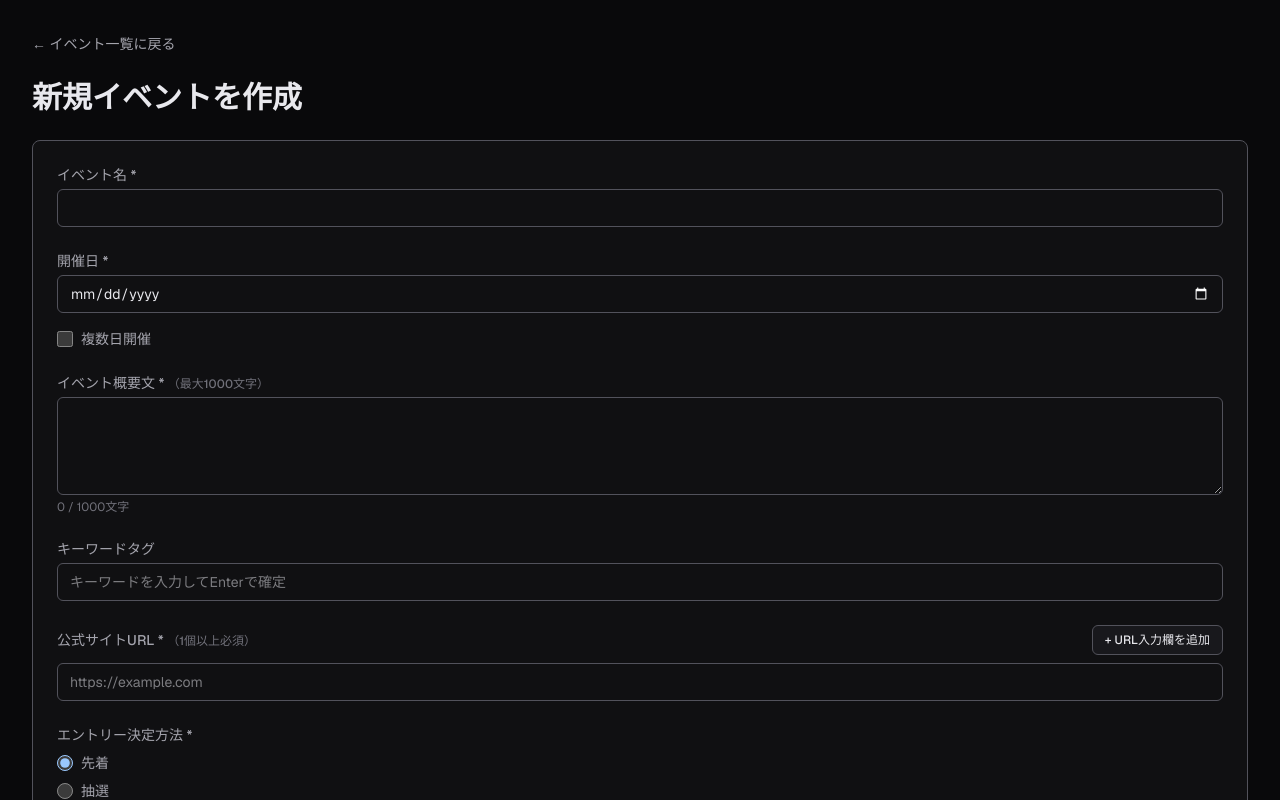
AdminNewEventPage › 保存中はボタンが無効になる
Step 1. Type "テストイベント" into the 1st field → (640, 208), box [57,189,1223,227]
(page scrolled)
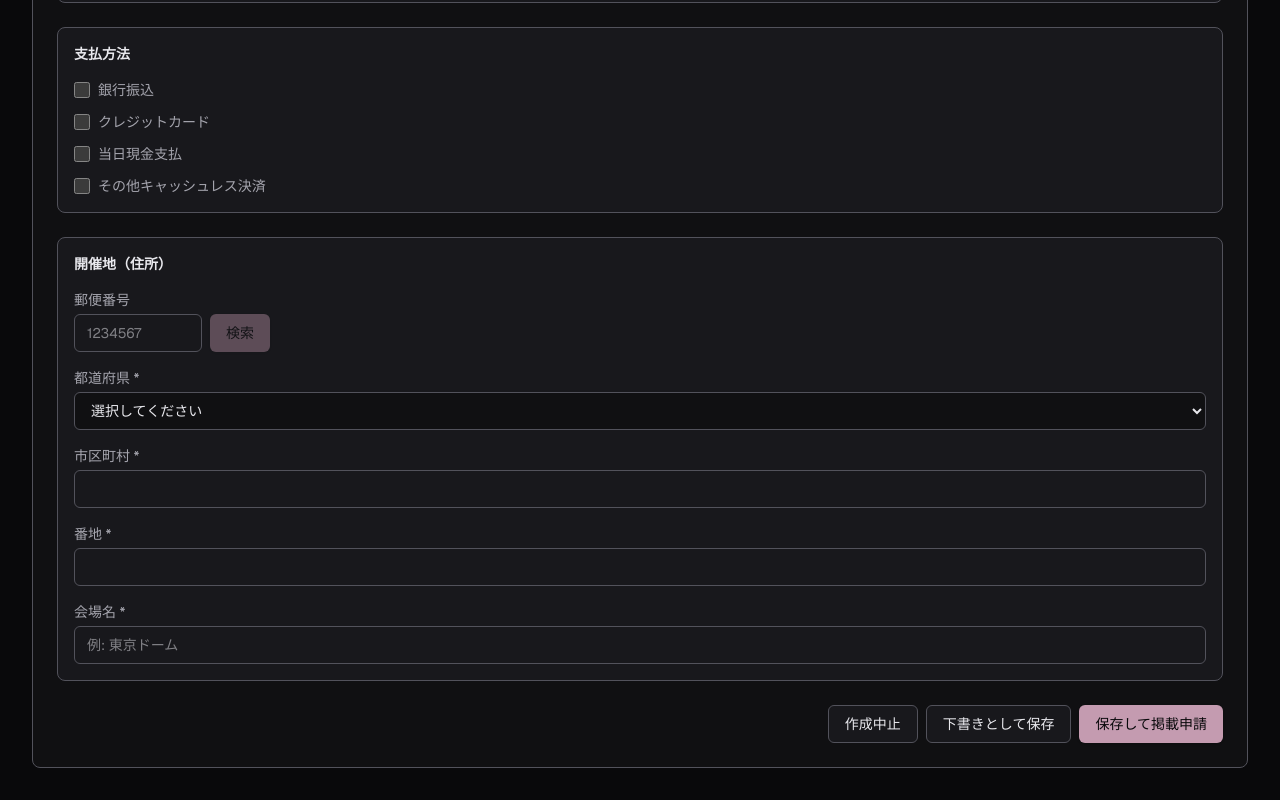
Step 2. Click the button "下書きとして保存" → (999, 724), box [926,704,1071,742]
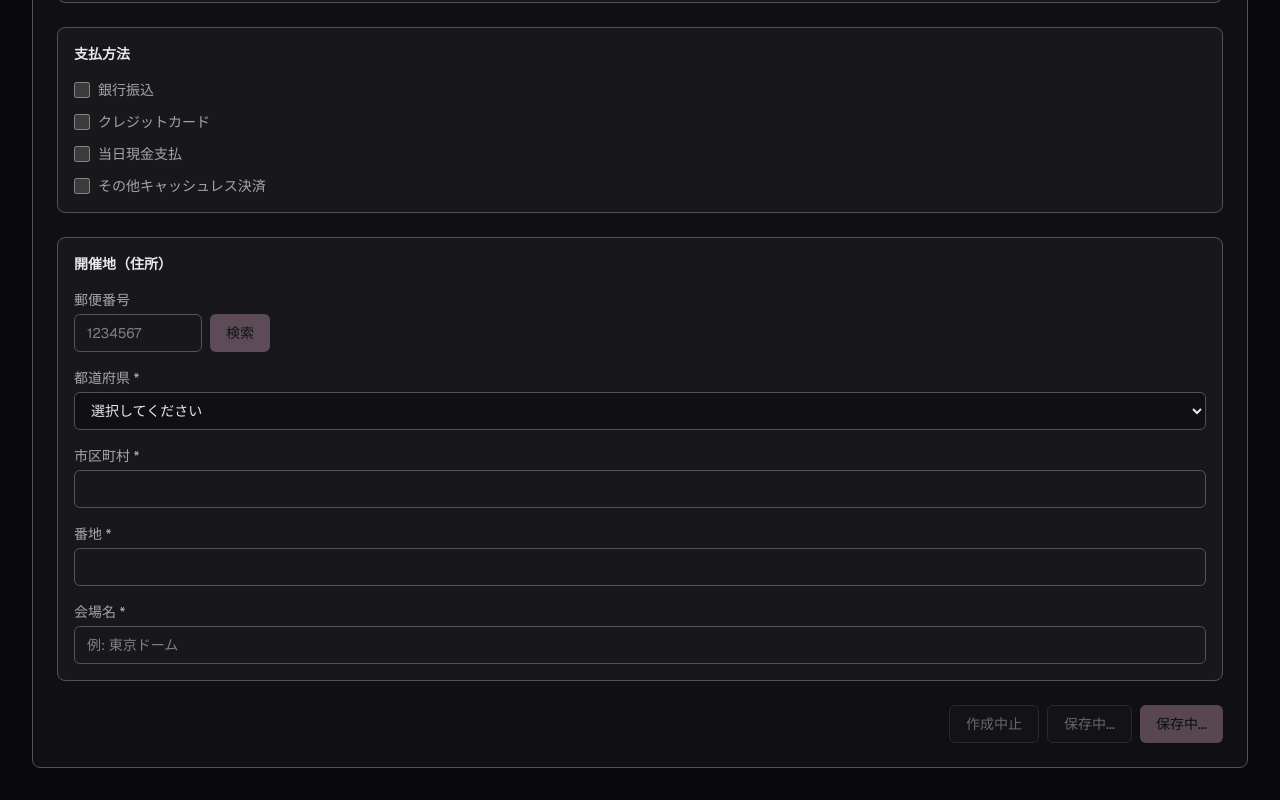
Result: the 1st button "保存中..." is shown at [1047,704,1132,742]
